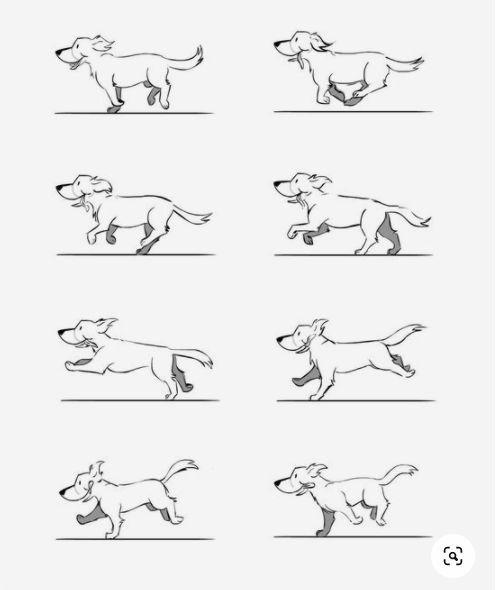adult_dog: (55, 310, 214, 400), (272, 170, 432, 254), (53, 171, 214, 254), (275, 318, 427, 402), (272, 24, 427, 106), (55, 31, 206, 114), (59, 458, 201, 539), (272, 462, 420, 538)
